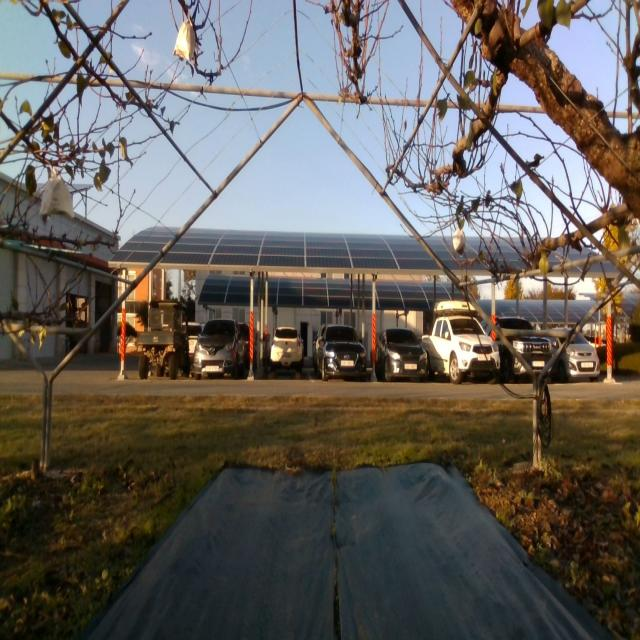pearbags: (40, 175, 74, 218), (172, 20, 195, 61), (452, 228, 466, 256)
